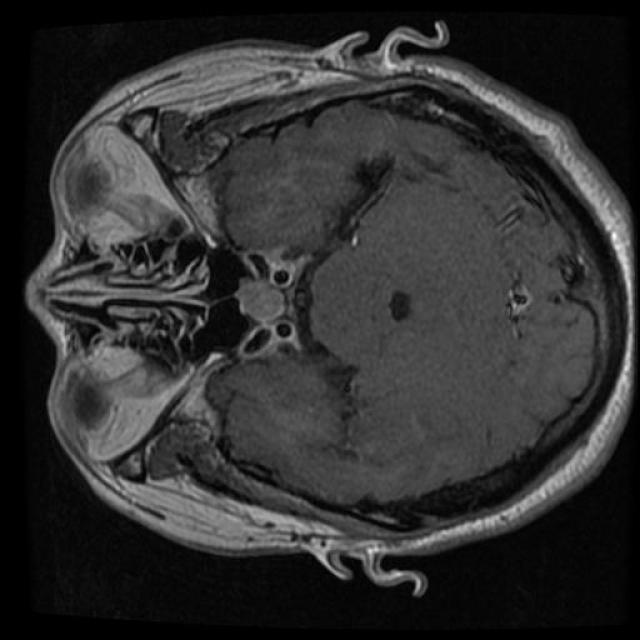Pituitary: (236, 281, 283, 322)
